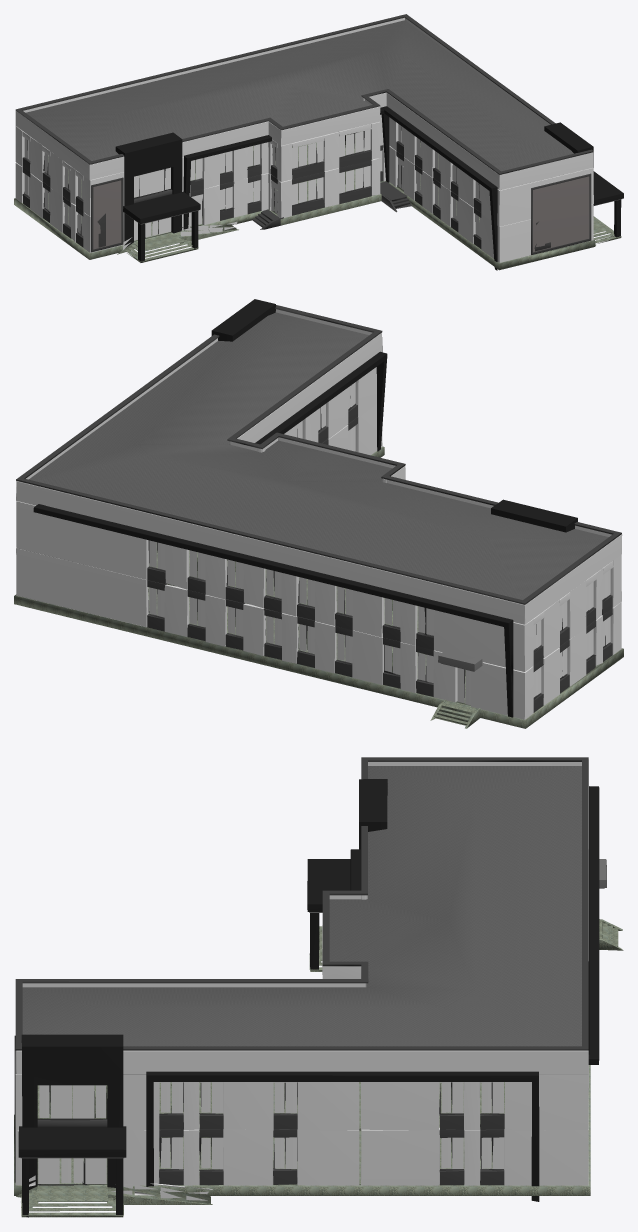
Rendered from mini_office_building.glb.
The picture shows the model from 3 angles, top to bottom: view 1: azimuth 30°, elevation 25°; view 2: azimuth 150°, elevation 25°; view 3: azimuth 270°, elevation 25°; orthographic projection. The views are drawn at different scales.
Parts seen in each view (by area): view 1: mini_office_building; view 2: mini_office_building; view 3: mini_office_building.
Boxes of the visible parts, x1,y1,x2,y2 form: mini_office_building: [14, 14, 623, 270]; mini_office_building: [14, 299, 623, 728]; mini_office_building: [14, 757, 623, 1217].
Bounding box in the file's own units: 4264 × 1032 × 3479.
15 materials, 4 textured.
